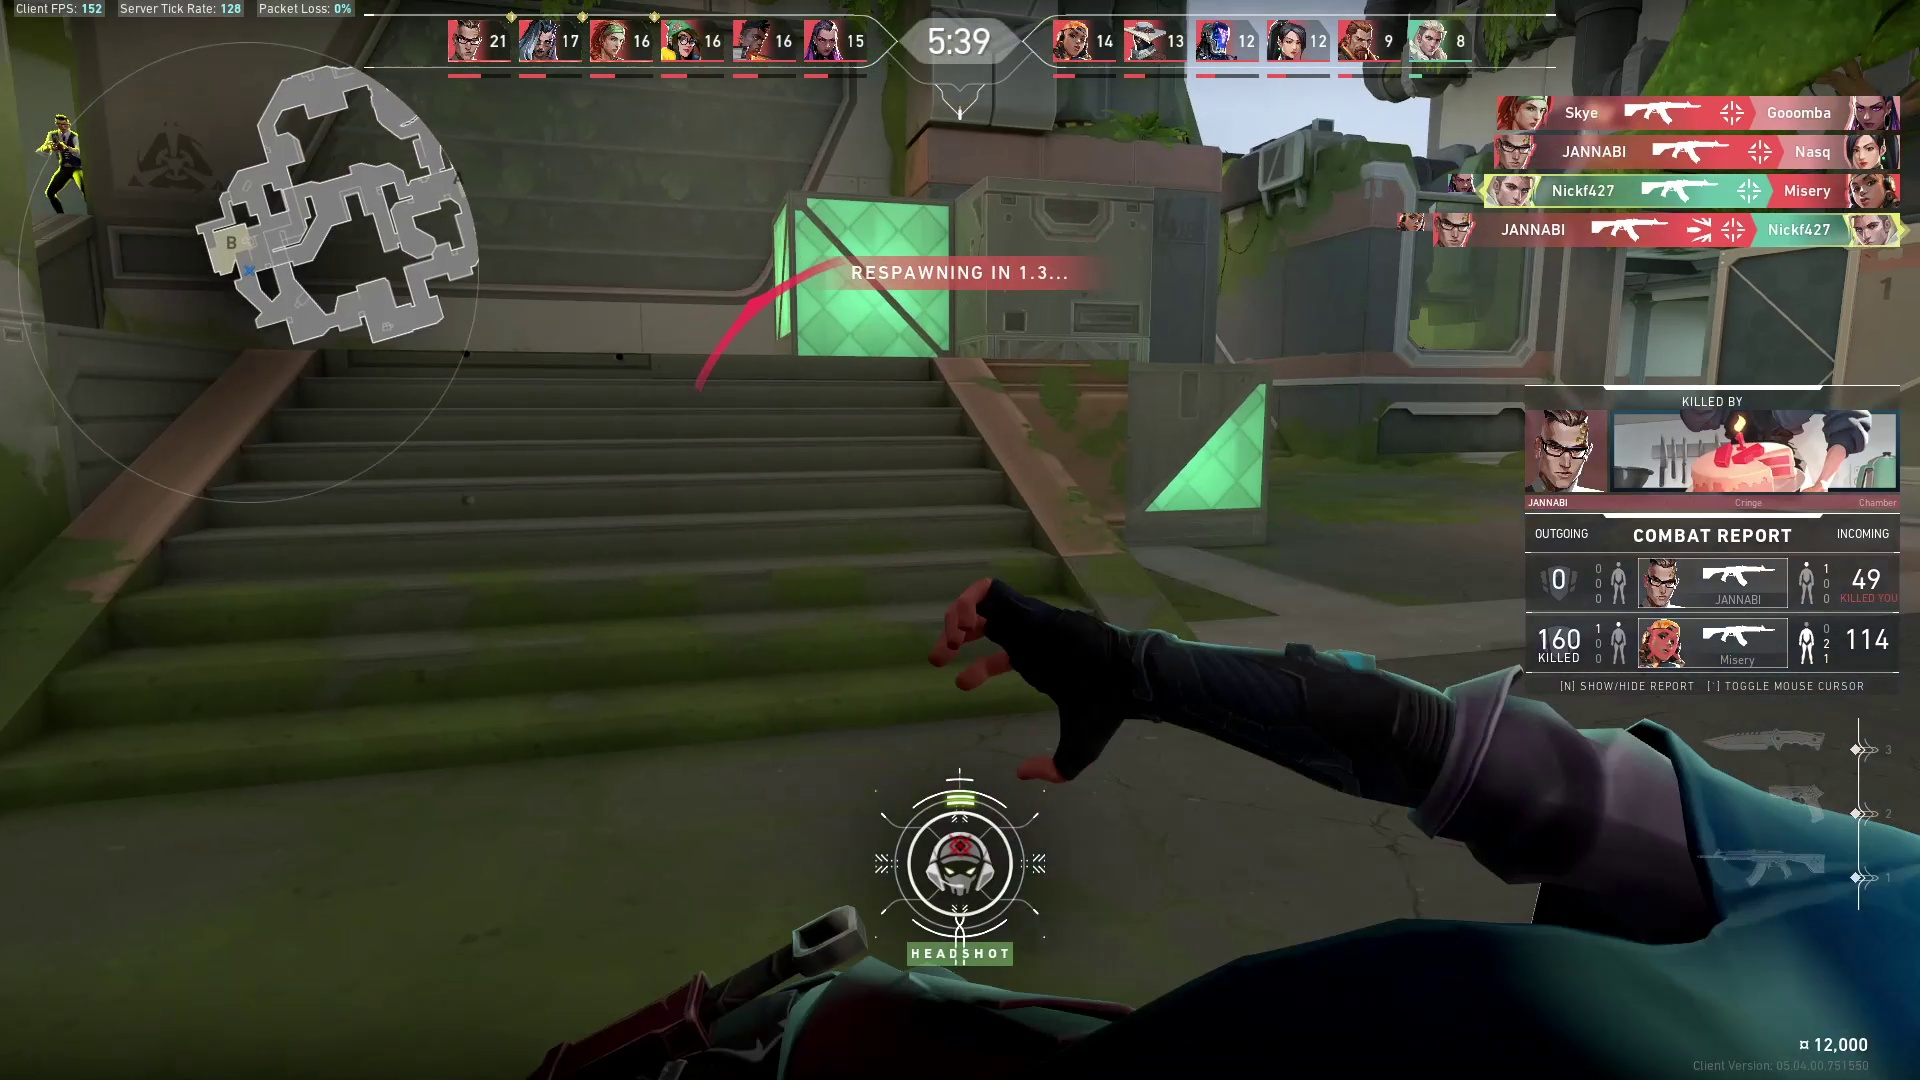enemy_body: (36, 132, 91, 218)
enemy_head: (51, 112, 74, 133)
